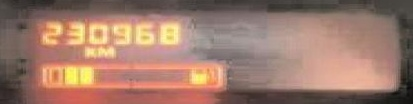0: (82, 20, 107, 44)
2: (36, 19, 60, 45)
3: (60, 19, 82, 45)
6: (132, 20, 154, 45)
8: (156, 20, 180, 45)
9: (107, 20, 131, 44)
X: (94, 44, 114, 58), (80, 44, 93, 58)
